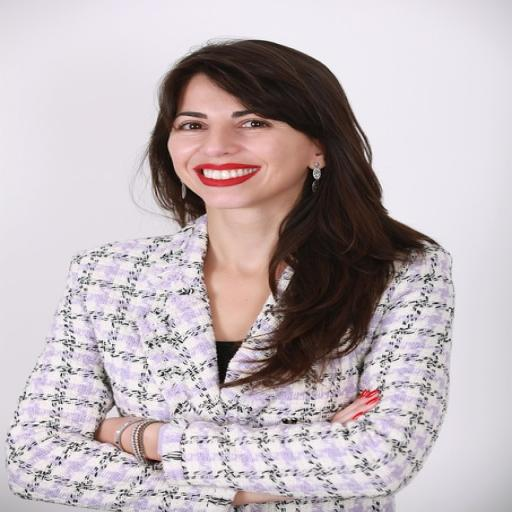lipstick: (195, 163, 259, 186)
